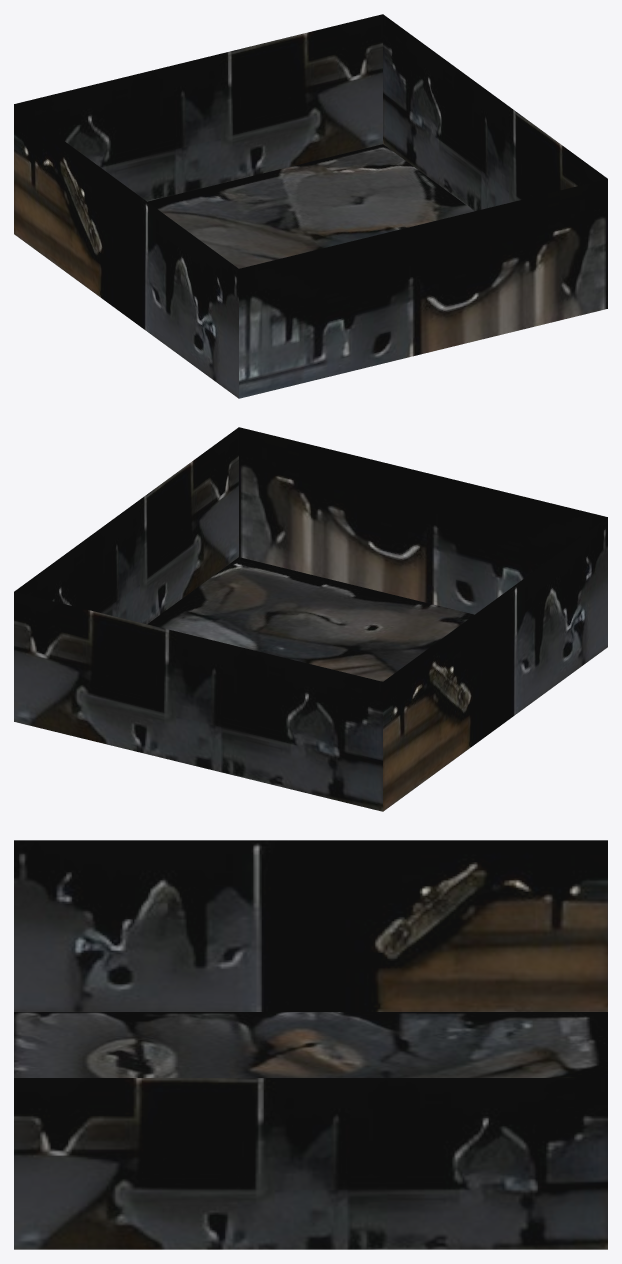
File: crashshanty3_dam_hdtex.glb
3 renders of one model, top to bottom at view 1: azimuth 30°, elevation 25°; view 2: azimuth 150°, elevation 25°; view 3: azimuth 270°, elevation 25°, orthographic. The views are drawn at different scales.
Visible parts, largest first — view 1: CrashShanty3; view 2: CrashShanty3; view 3: CrashShanty3.
Part boxes in pixels (x1=…): CrashShanty3: x1=14, y1=14, x2=607, y2=398; CrashShanty3: x1=14, y1=427, x2=607, y2=811; CrashShanty3: x1=14, y1=840, x2=607, y2=1249.
Bounding box in the file's own units: 4.85 × 1.63 × 5.13.
Materials: 1 (1 with a texture image).
